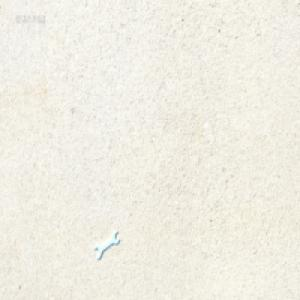Wrench: (95, 230, 119, 259)
